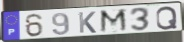3: (130, 7, 151, 33)
6: (24, 13, 45, 38)
9: (51, 12, 71, 36)
K: (78, 11, 98, 34)
M: (99, 8, 130, 34)
Q: (155, 6, 179, 31)
